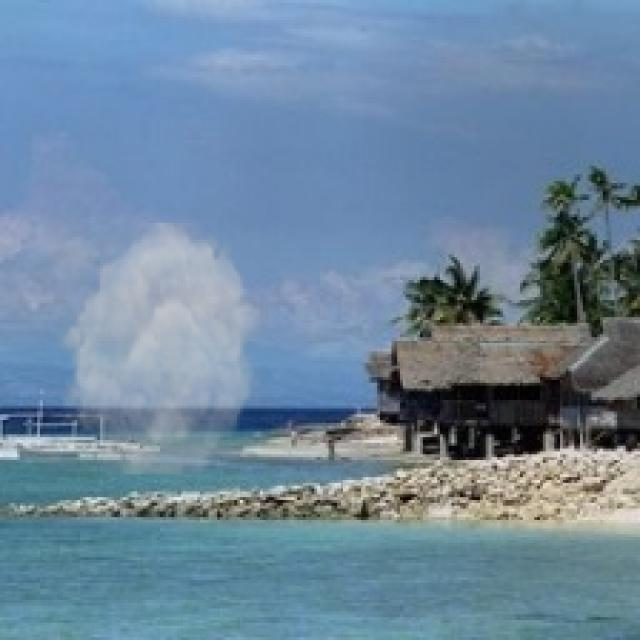Smoke: (54, 223, 269, 474)
